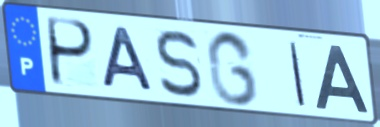A: (313, 43, 371, 114), (101, 24, 157, 94)
G: (204, 28, 260, 108)
I: (287, 39, 308, 109)
P: (47, 15, 97, 90)
S: (154, 28, 204, 100)
